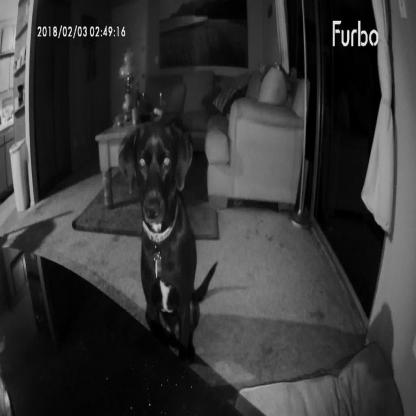dog: (117, 113, 220, 371)
